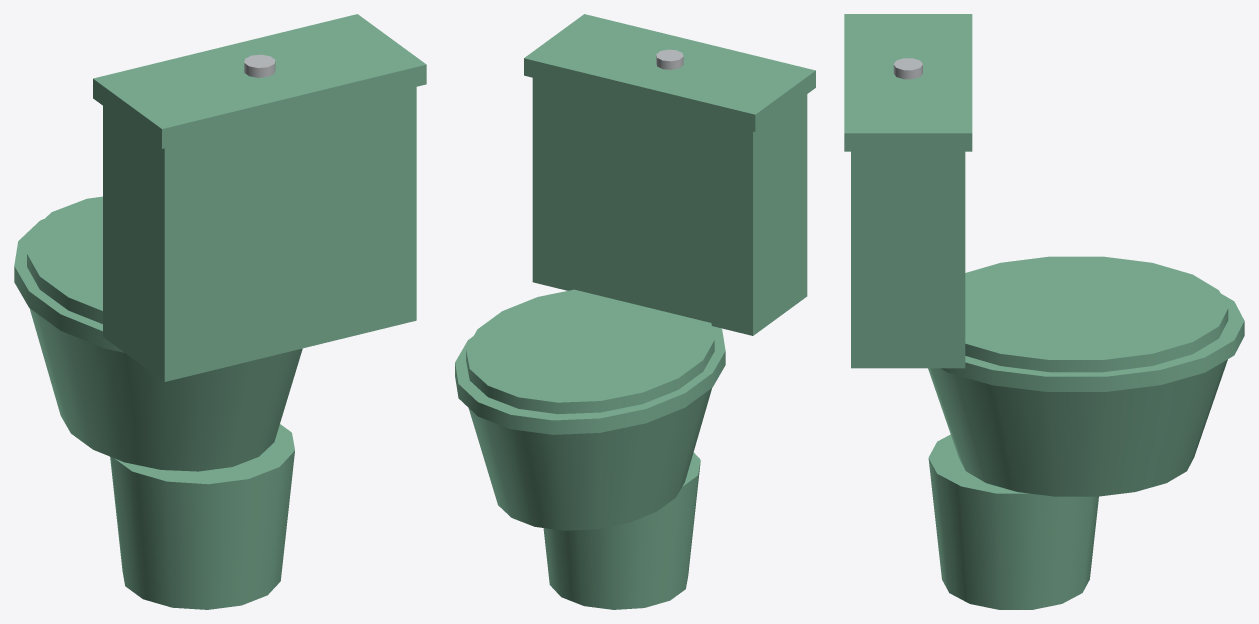
The model's file is toilet-green.obj.
The picture shows the model from 3 angles, left to right: view 1: azimuth 30°, elevation 25°; view 2: azimuth 150°, elevation 25°; view 3: azimuth 270°, elevation 25°; orthographic projection. The views are drawn at different scales.
Visible parts, largest first — view 1: toilet-green_4, toilet-green_5, toilet-green_0, toilet-green_1, toilet-green_3, toilet-green_2, toilet-green_6; view 2: toilet-green_4, toilet-green_3, toilet-green_1, toilet-green_5, toilet-green_0, toilet-green_2, toilet-green_6; view 3: toilet-green_1, toilet-green_3, toilet-green_4, toilet-green_0, toilet-green_5, toilet-green_2, toilet-green_6.
Boxes of the visible parts, x1,y1,x2,y2 form: toilet-green_4: (103, 87, 416, 381); toilet-green_5: (93, 14, 426, 148); toilet-green_0: (110, 424, 294, 609); toilet-green_1: (29, 308, 302, 471); toilet-green_3: (27, 196, 102, 323); toilet-green_2: (14, 219, 123, 352); toilet-green_6: (244, 54, 275, 77); toilet-green_4: (532, 78, 807, 335); toilet-green_3: (466, 289, 714, 414); toilet-green_1: (468, 388, 711, 530); toilet-green_5: (524, 14, 815, 131); toilet-green_0: (543, 452, 700, 609); toilet-green_2: (455, 326, 725, 434); toilet-green_6: (656, 49, 683, 69); toilet-green_1: (928, 359, 1227, 496); toilet-green_3: (965, 256, 1228, 372); toilet-green_4: (851, 151, 965, 368); toilet-green_0: (928, 434, 1098, 609); toilet-green_5: (844, 14, 972, 151); toilet-green_2: (941, 293, 1244, 391); toilet-green_6: (893, 58, 922, 79).
Size of the model in its own units: 0.42 by 0.8455 by 0.595.
